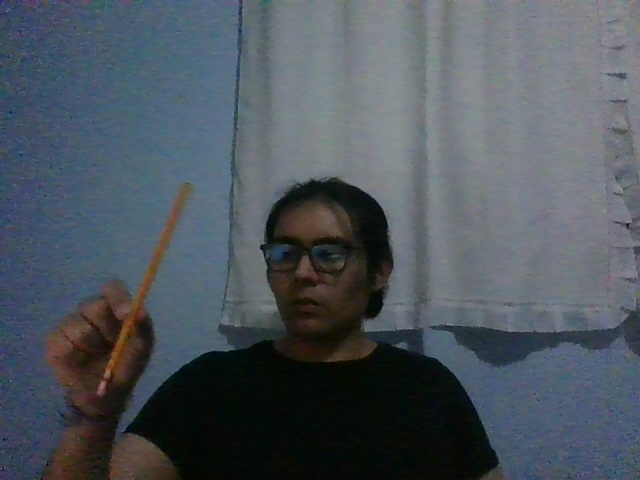lapiz: (97, 182, 193, 397)
